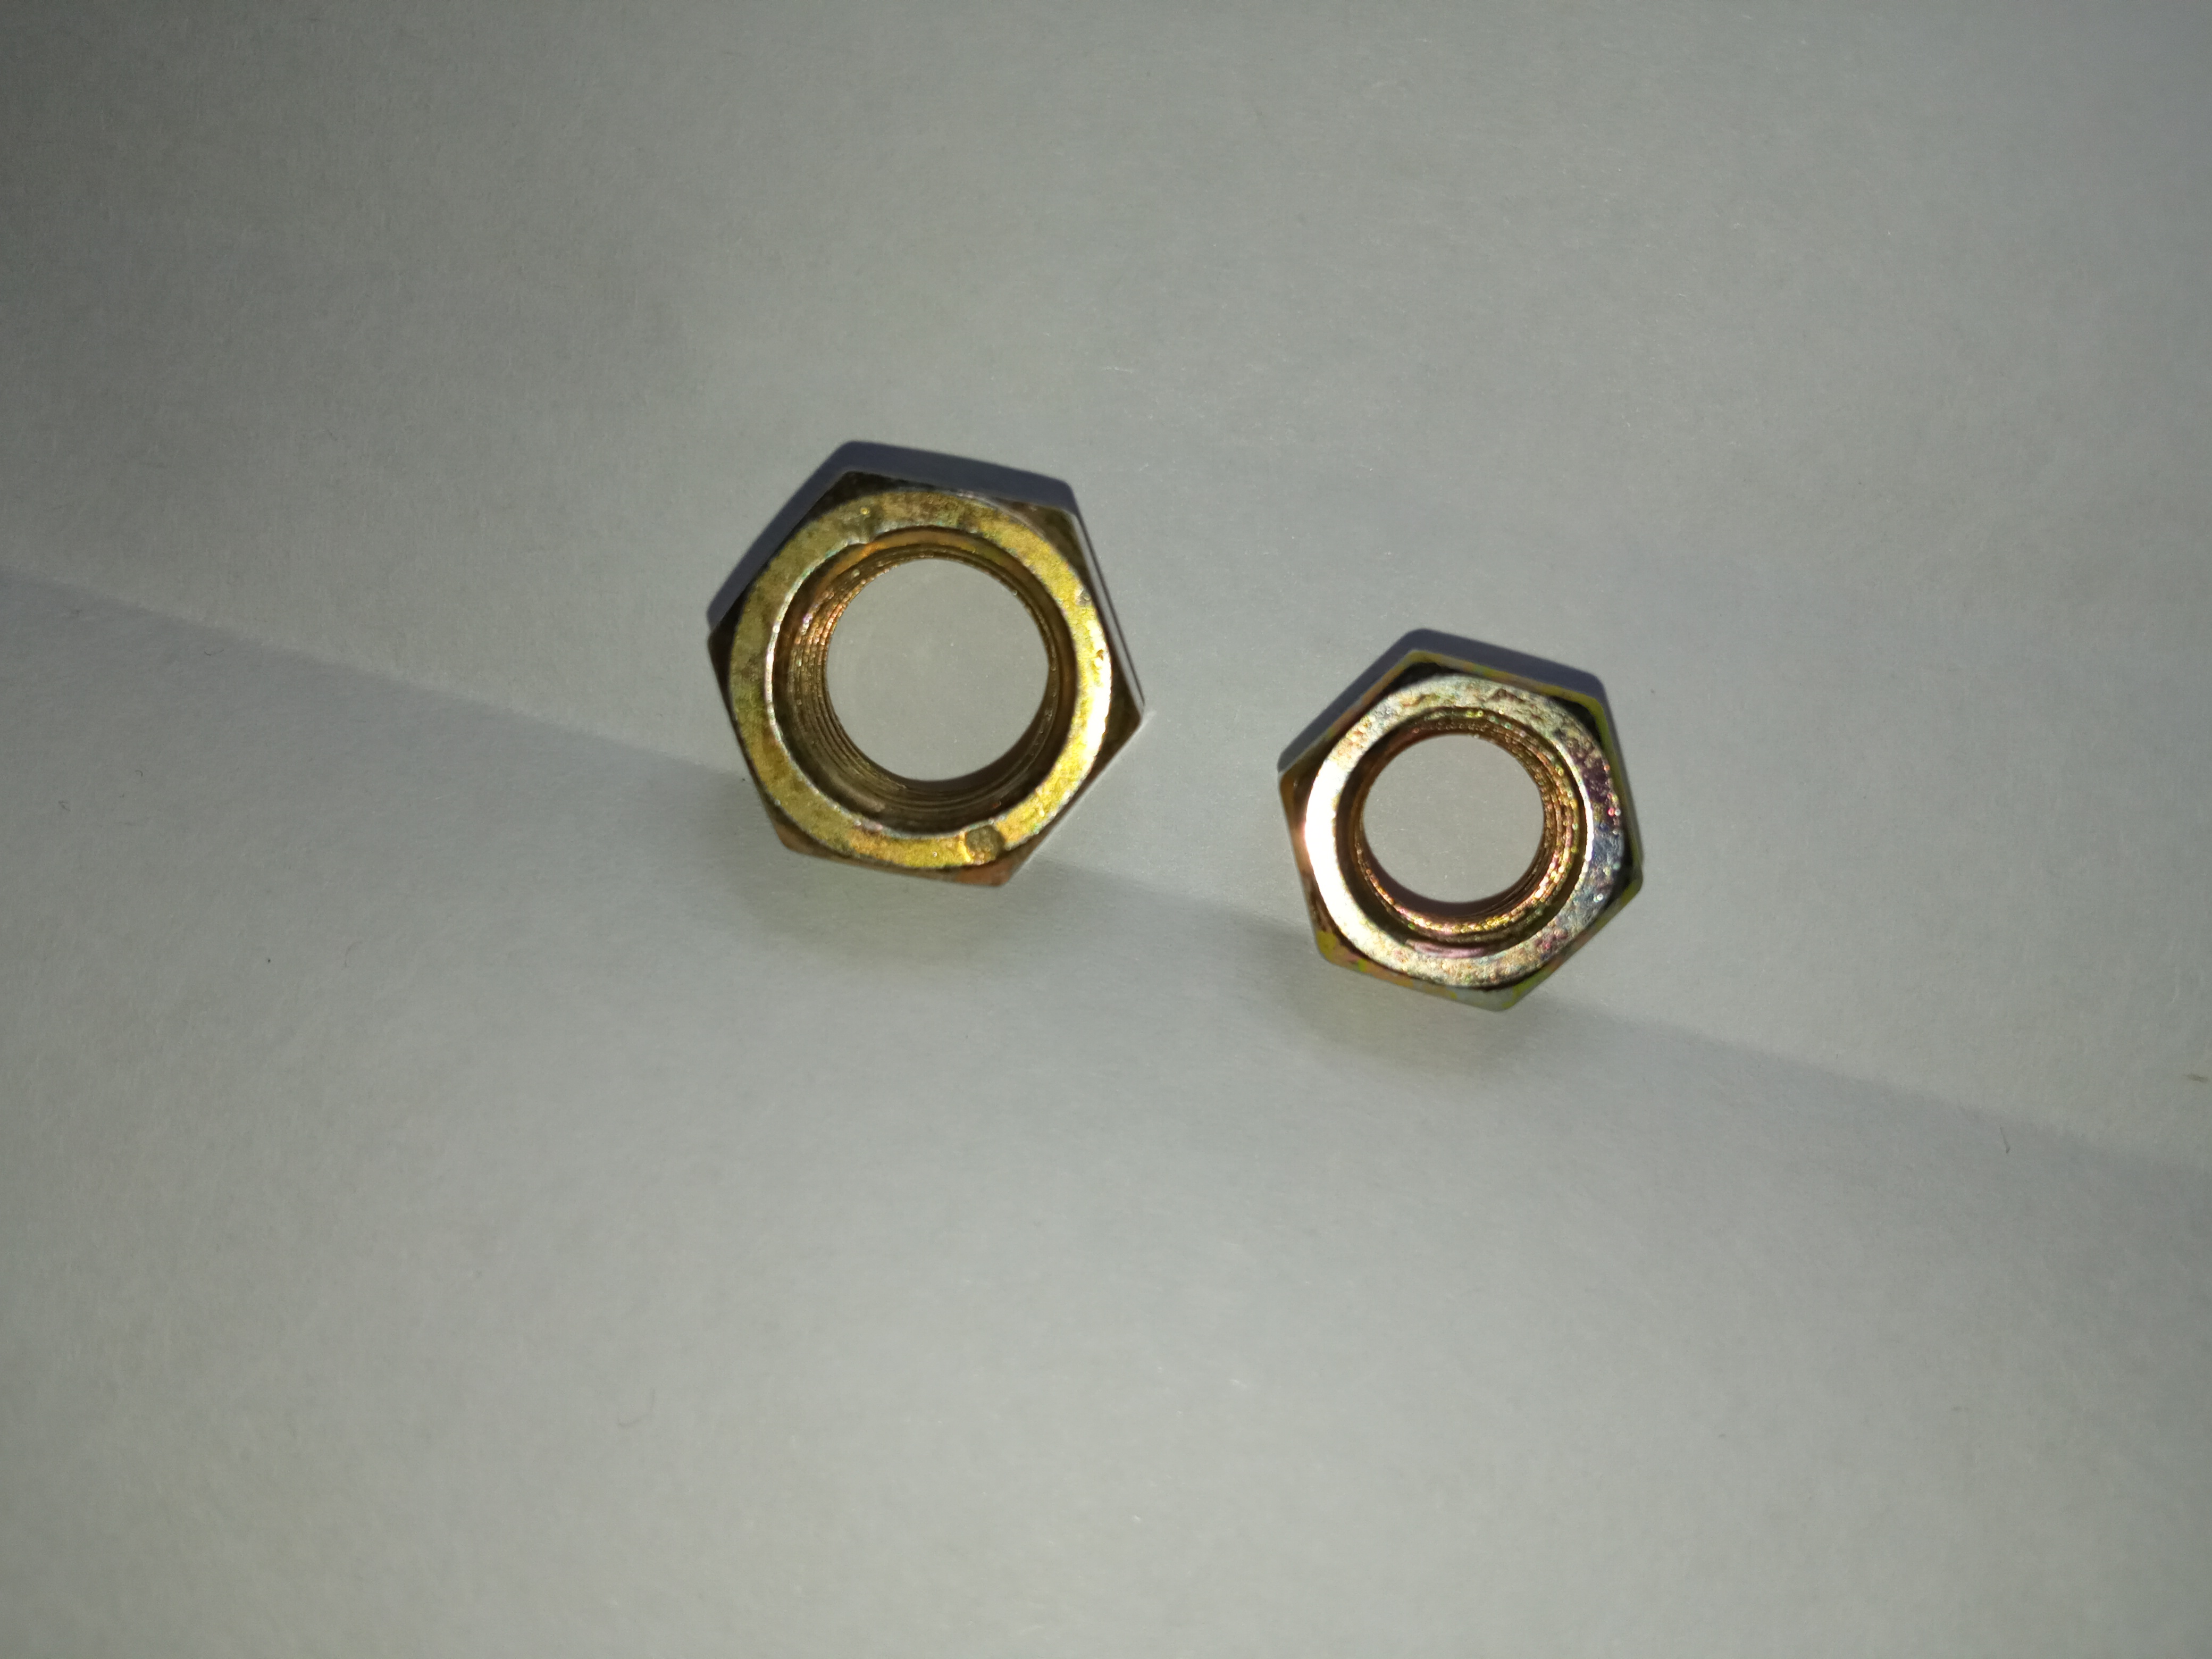m10: (700, 474, 1113, 875)
m8: (1273, 653, 1635, 1006)
